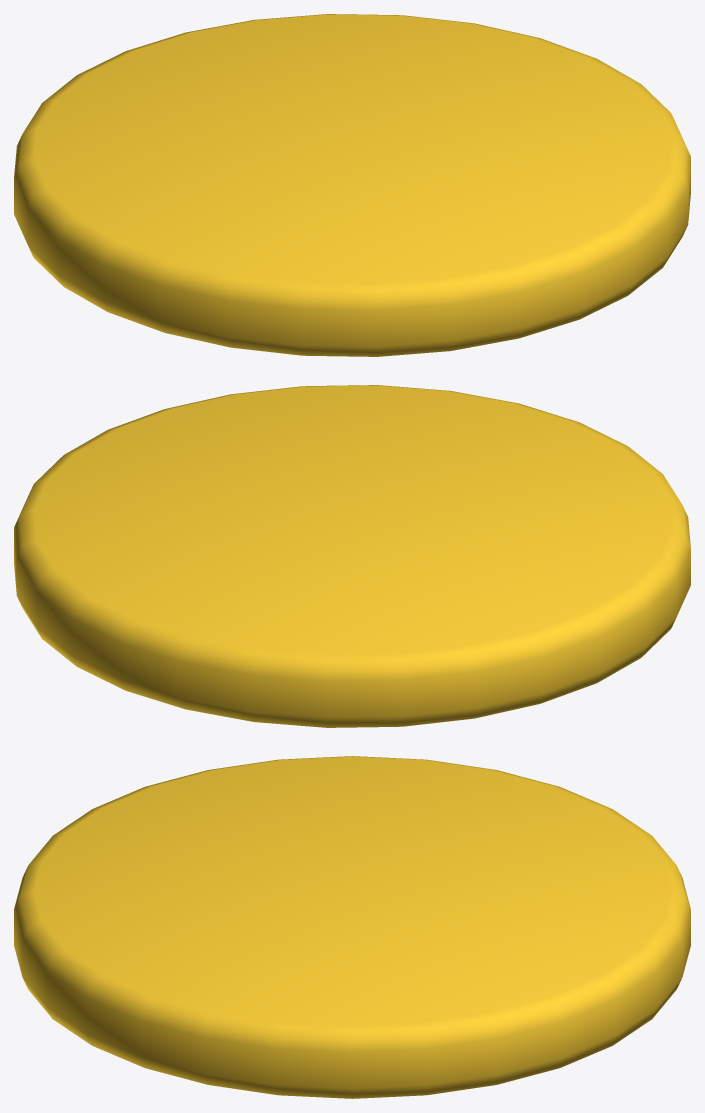
Rendered from carthabot_coin.obj.
3 views of the same model, one above another, from view 1: azimuth 30°, elevation 25°; view 2: azimuth 150°, elevation 25°; view 3: azimuth 270°, elevation 25° (orthographic).
Visible parts, largest first — view 1: Coin; view 2: Coin; view 3: Coin.
Boxes of the visible parts, left/top/right/bottom form: Coin: left=14, top=14, right=690, bottom=356; Coin: left=14, top=385, right=690, bottom=727; Coin: left=14, top=756, right=690, bottom=1098.
Bounding box in the file's own units: 0.68 × 0.08 × 0.68.
